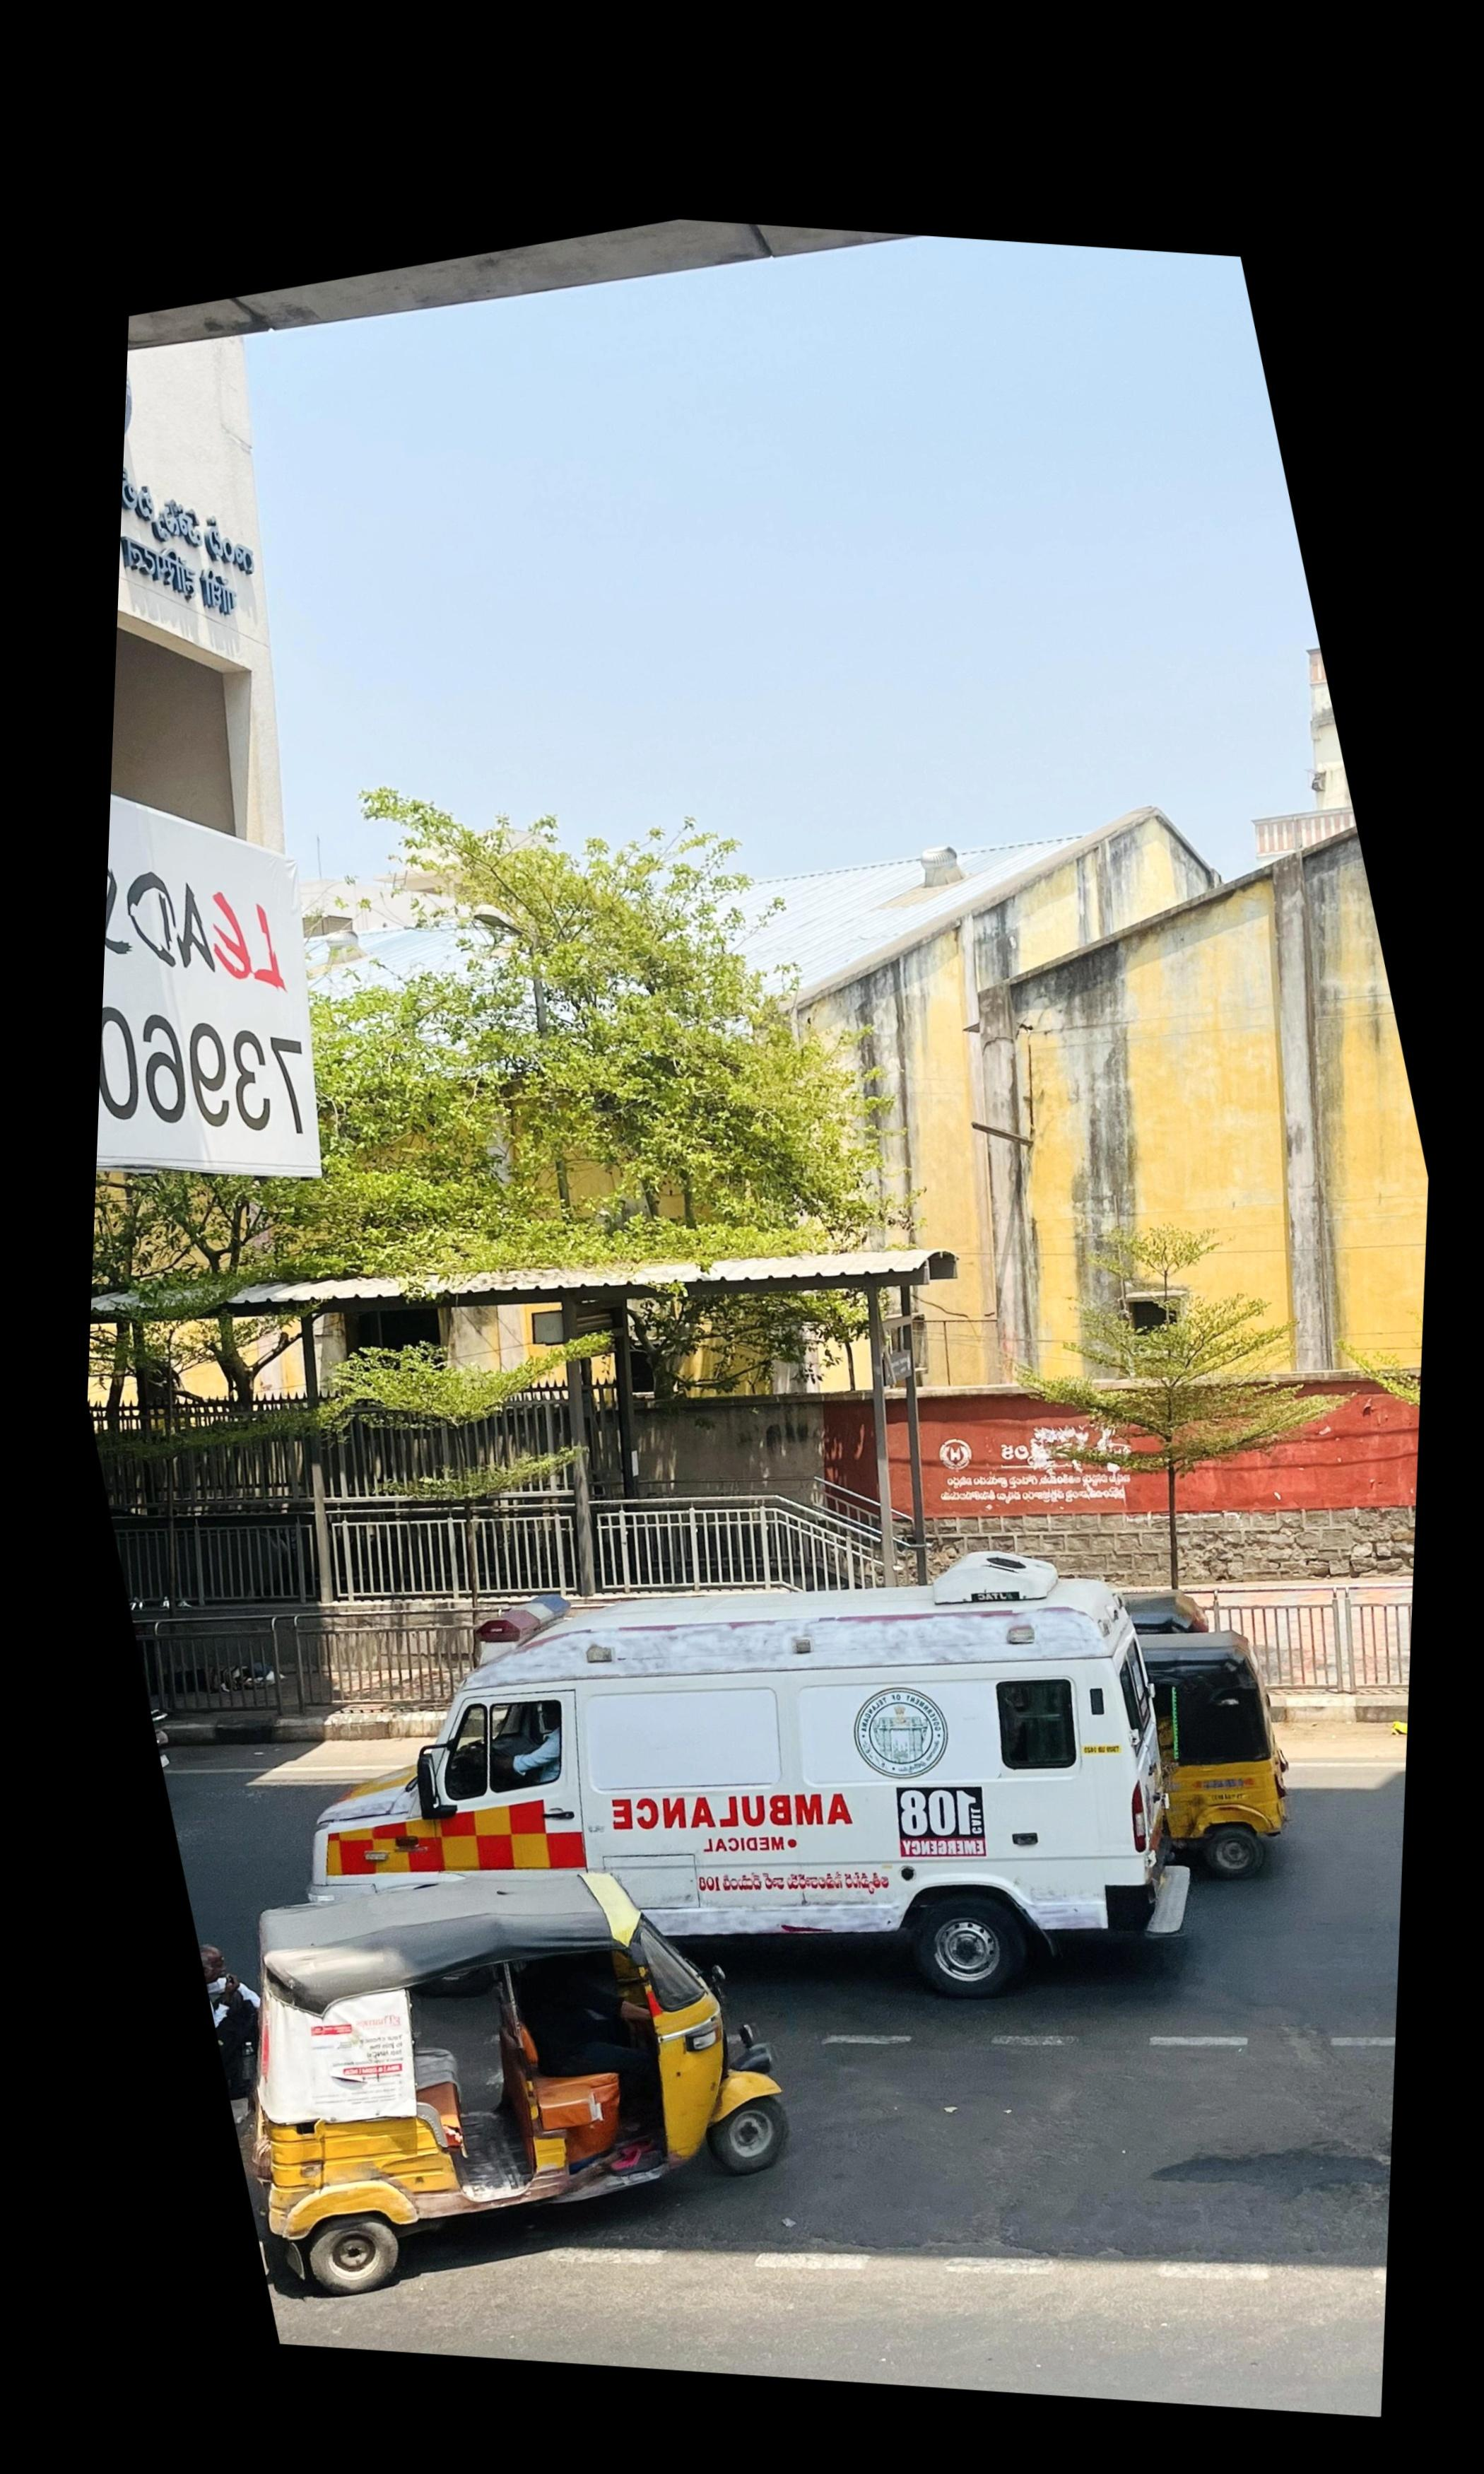ambulance: (307, 1552, 1194, 1990)
